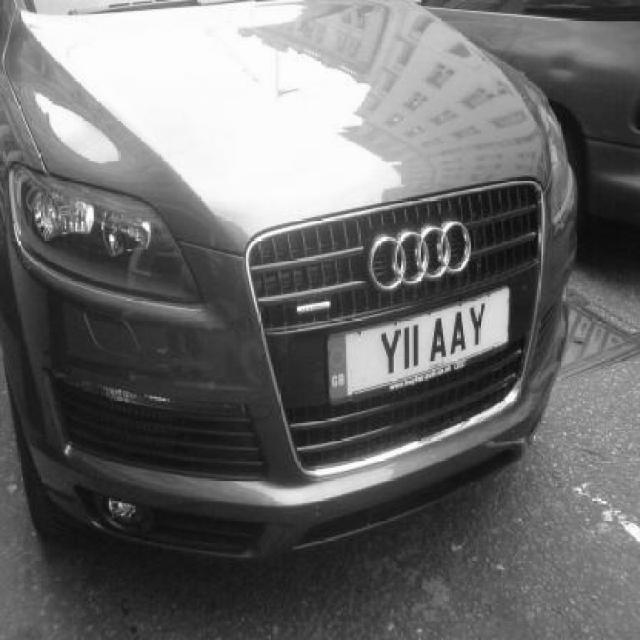car: (6, 1, 602, 578)
license-plate: (325, 283, 517, 395)
